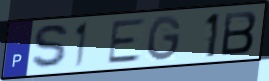1: (73, 19, 93, 70), (204, 11, 222, 59)
B: (219, 9, 259, 57)
E: (106, 17, 149, 66)
G: (146, 14, 184, 63)
S: (29, 23, 72, 71)
